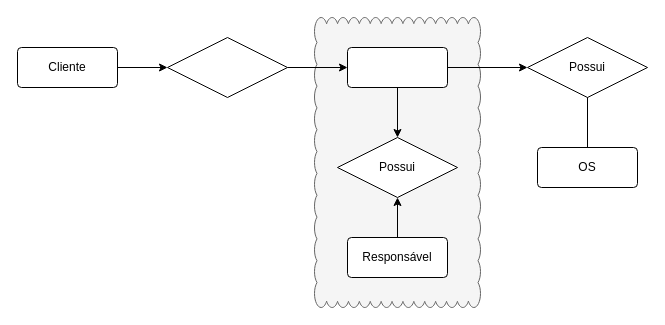
Some shapes in this 665 by 325 pixel diagram are drawn without their labels. The shapes that lost their labels are listed below. From the top down, each one's centre as x and y in pixels, then its label:
At (227,67): "Gera".
At (397,67): "Pedido".
